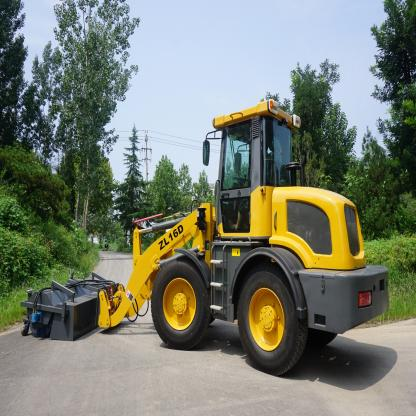bull_dozer/loader/grader: (18, 68, 406, 377)
